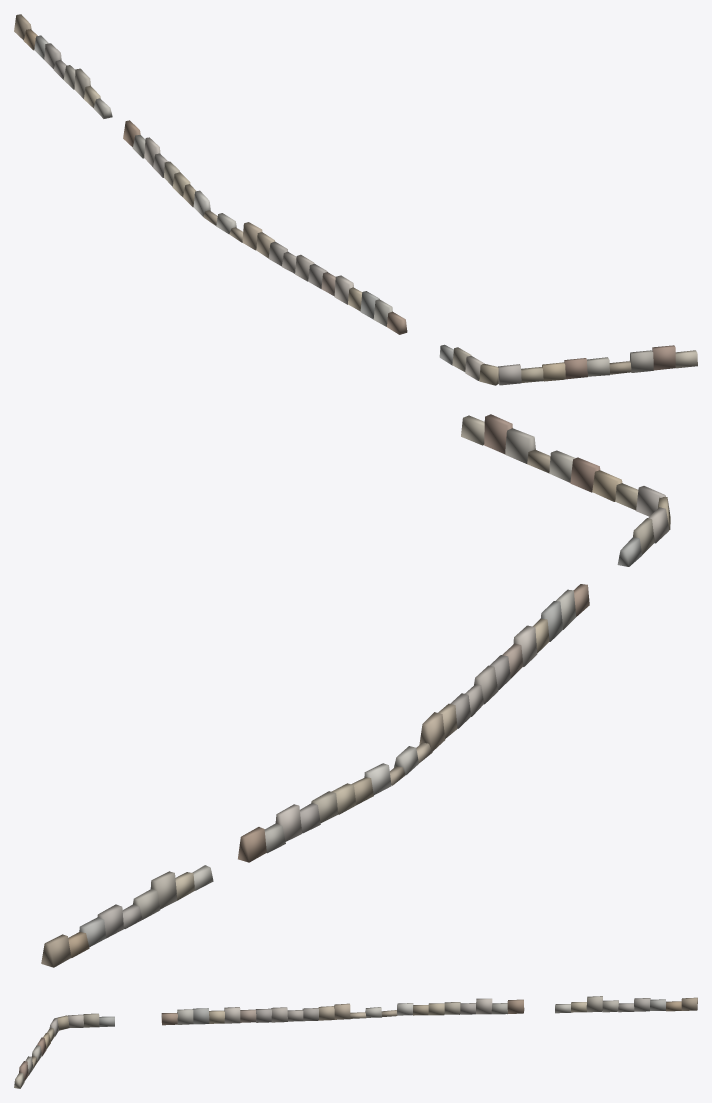
The model's file is farm_6_26_far.glb.
The picture shows the model from 3 angles, top to bottom: view 1: azimuth 30°, elevation 25°; view 2: azimuth 150°, elevation 25°; view 3: azimuth 270°, elevation 25°; orthographic projection. The views are drawn at different scales.
Visible parts, largest first — view 1: geometry_0; view 2: geometry_0; view 3: geometry_0.
Boxes of the visible parts, box(x1,y1,x2,y2) form: geometry_0: box(14, 14, 697, 385); geometry_0: box(41, 414, 670, 967); geometry_0: box(14, 996, 697, 1088).
Bounding box in the file's own units: 17.52 × 2.98 × 67.36.
